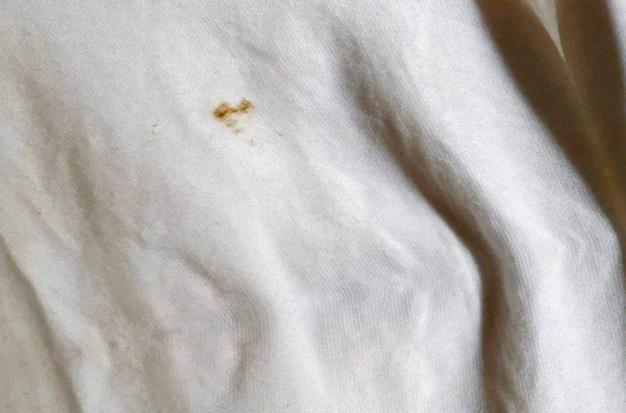stain: (203, 88, 266, 146)
